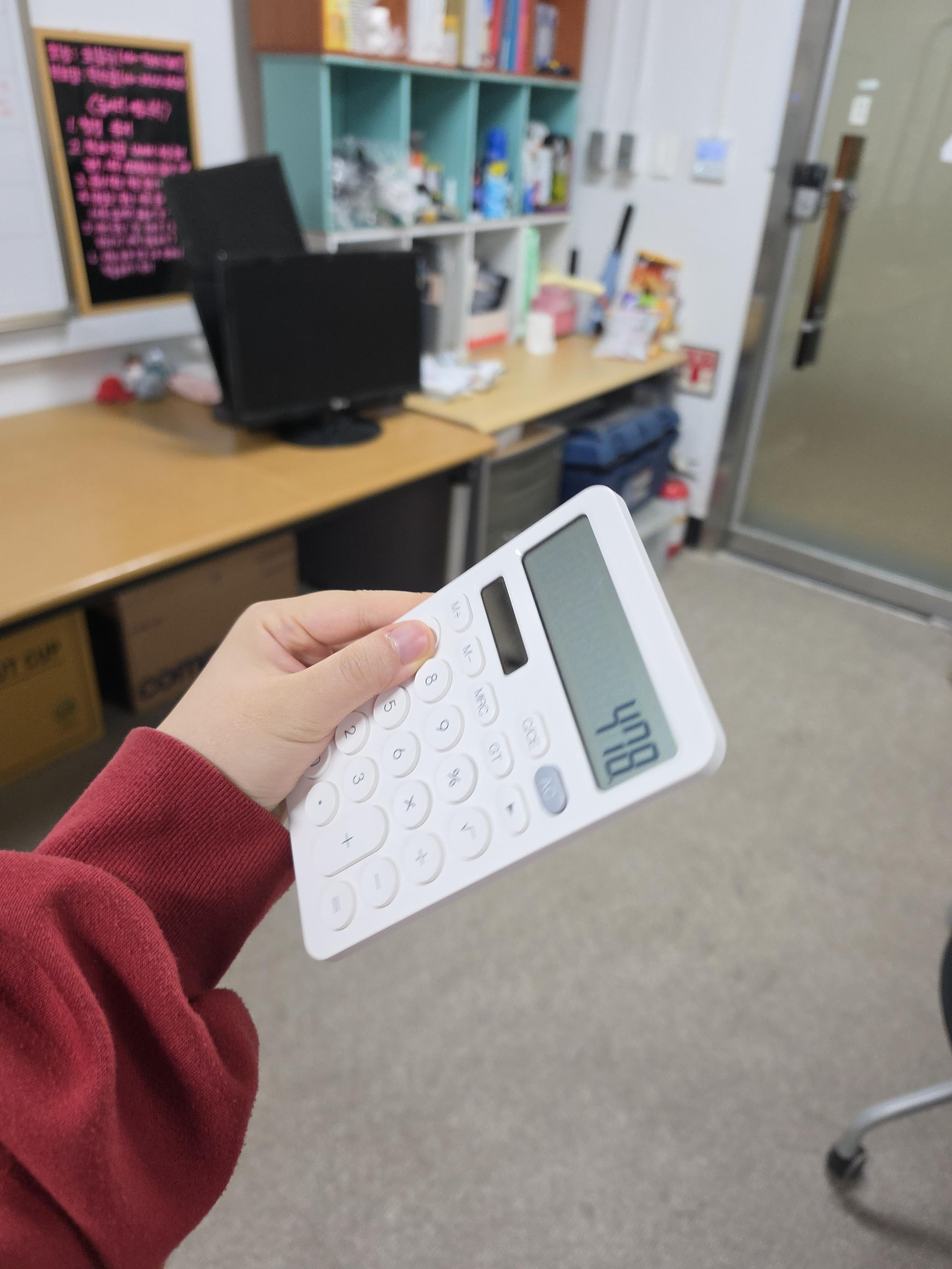calculator: (287, 484, 728, 962)
